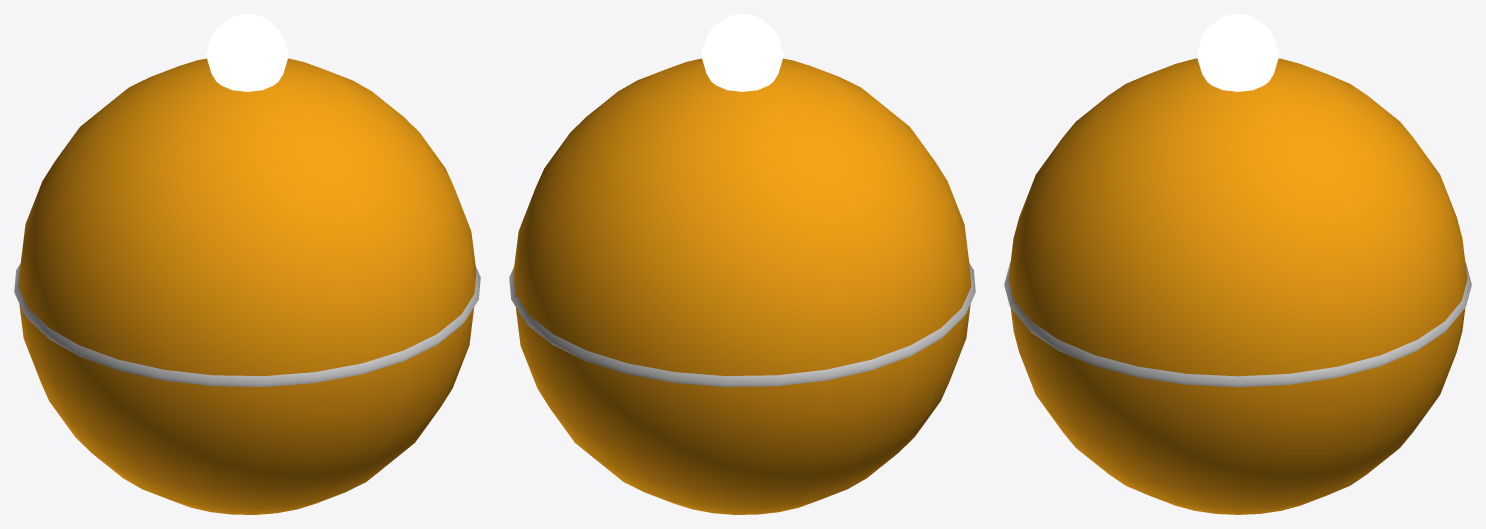
File: buoy_gold.glb
3 views of the same model, side by side, from view 1: azimuth 30°, elevation 25°; view 2: azimuth 150°, elevation 25°; view 3: azimuth 270°, elevation 25° (orthographic).
Visible parts, largest first — view 1: buoy_gold; view 2: buoy_gold; view 3: buoy_gold.
Boxes of the visible parts, <box> form: buoy_gold: <box>14,14,480,514</box>; buoy_gold: <box>509,14,975,514</box>; buoy_gold: <box>1004,14,1471,514</box>.
Size of the model in its own units: 1.02 by 1.14 by 1.02.
